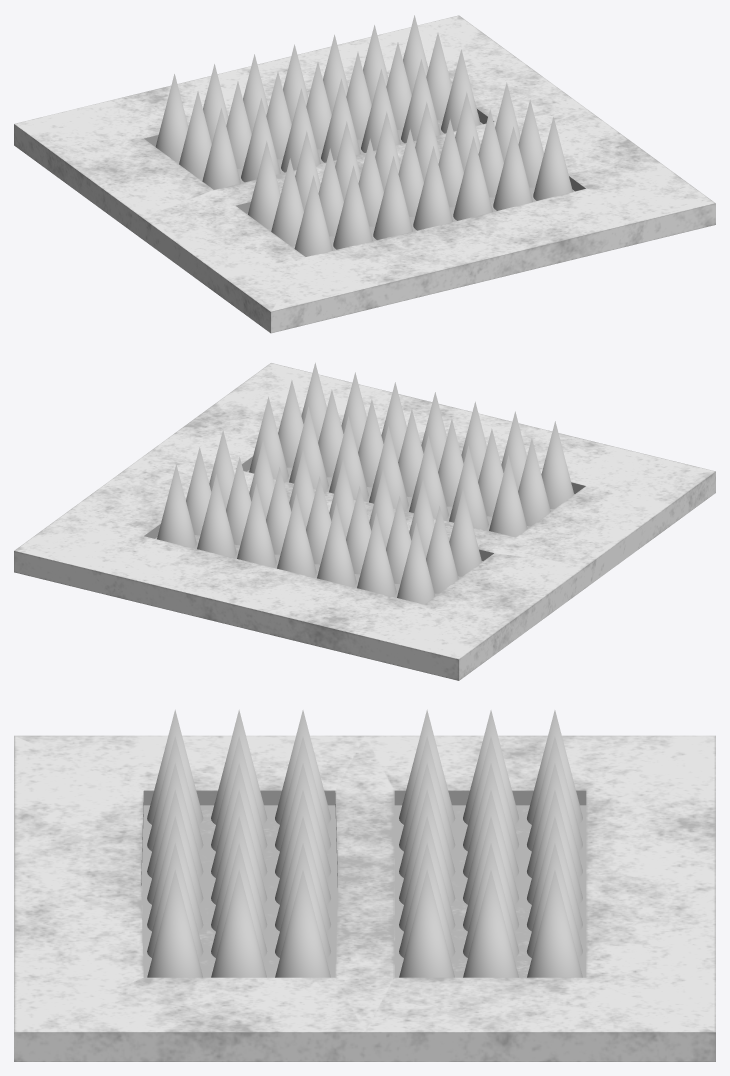
The model's file is Modular_Dungeon_Floor_w_spikes.fbx.
The picture shows the model from 3 angles, top to bottom: view 1: azimuth 30°, elevation 25°; view 2: azimuth 150°, elevation 25°; view 3: azimuth 270°, elevation 25°; orthographic projection. The views are drawn at different scales.
Parts seen in each view (by area): view 1: Bodenplatte_Spikes_lo, Spikes; view 2: Bodenplatte_Spikes_lo, Spikes; view 3: Bodenplatte_Spikes_lo, Spikes.
Part boxes in pixels (x1,y1,x2,y2): Bodenplatte_Spikes_lo: (14, 15, 715, 333); Spikes: (155, 15, 572, 256); Bodenplatte_Spikes_lo: (14, 363, 715, 680); Spikes: (157, 362, 574, 604); Bodenplatte_Spikes_lo: (14, 735, 715, 1061); Spikes: (147, 709, 582, 977).
Size of the model in its own units: 280 by 54.53 by 280.
